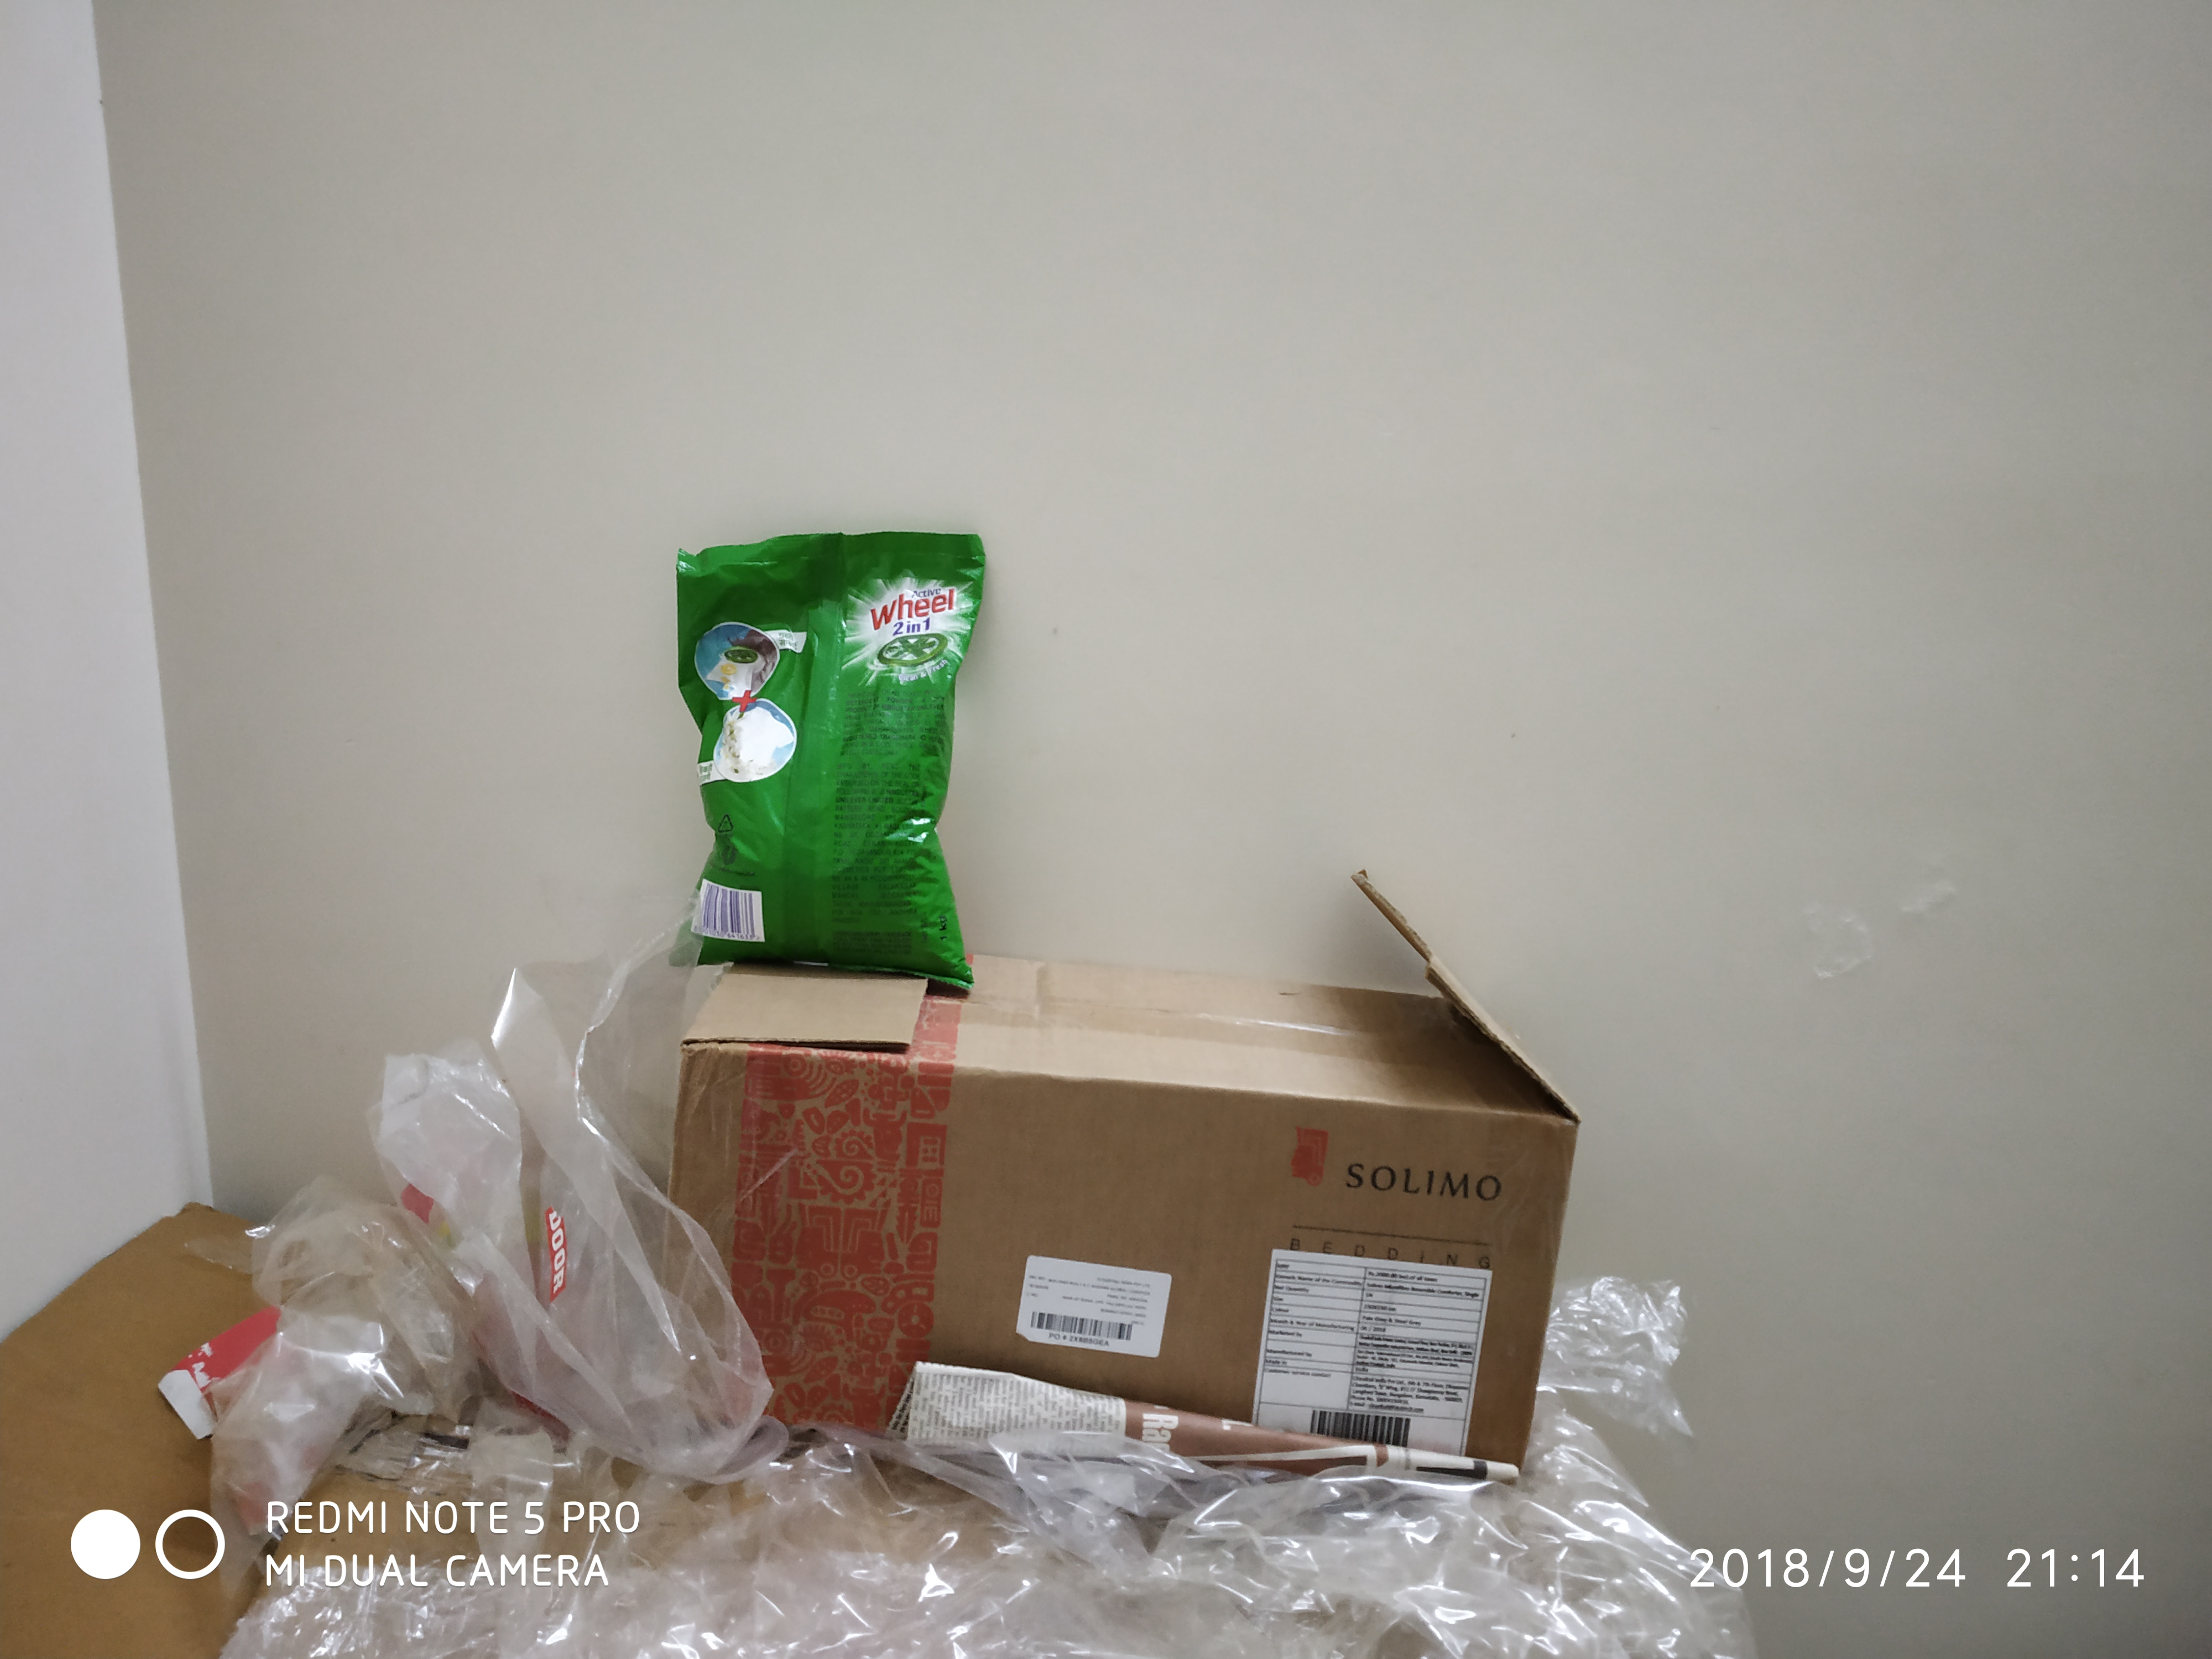detergent: (680, 528, 979, 968)
